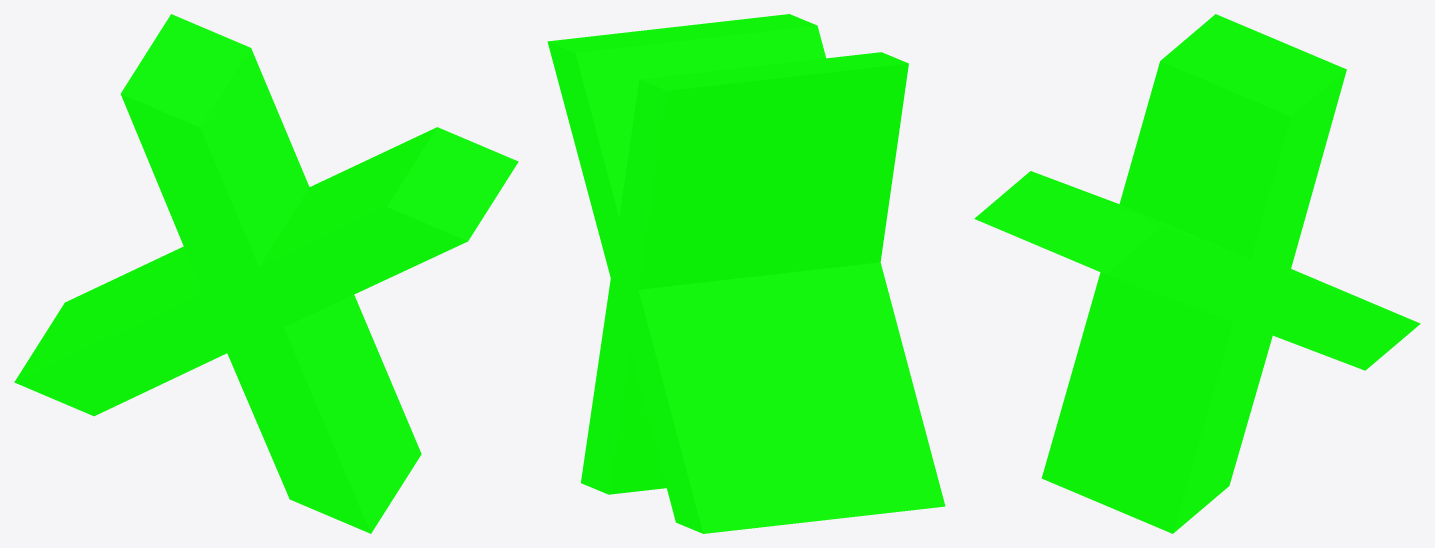
The model's file is MusicPlaybarCancelButton.glb.
3 renders of one model, left to right at view 1: azimuth 30°, elevation 25°; view 2: azimuth 150°, elevation 25°; view 3: azimuth 270°, elevation 25°, orthographic. The views are drawn at different scales.
Visible parts, largest first — view 1: Text.008; view 2: Text.008; view 3: Text.008.
Boxes of the visible parts, x1,y1,x2,y2 form: Text.008: [14, 14, 518, 533]; Text.008: [547, 14, 945, 533]; Text.008: [974, 14, 1420, 533].
Bounding box in the file's own units: 0.2716 × 0.2623 × 0.2716.
